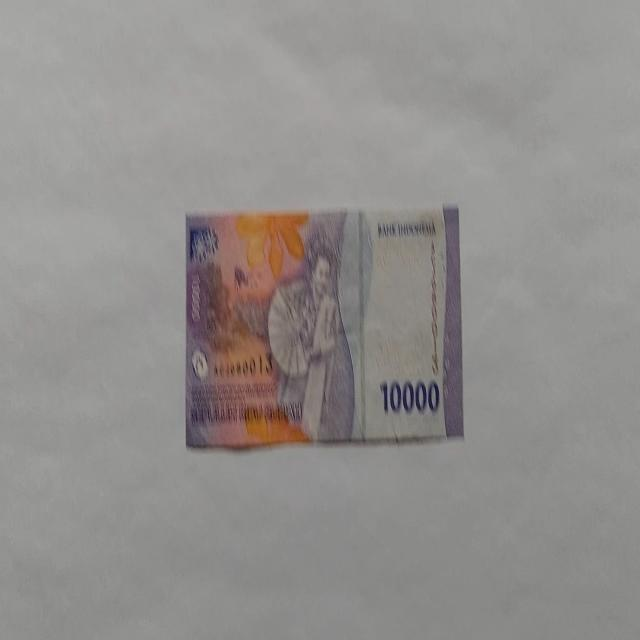sepuluh ribu rupiah: (184, 202, 464, 452), (378, 376, 440, 416)
